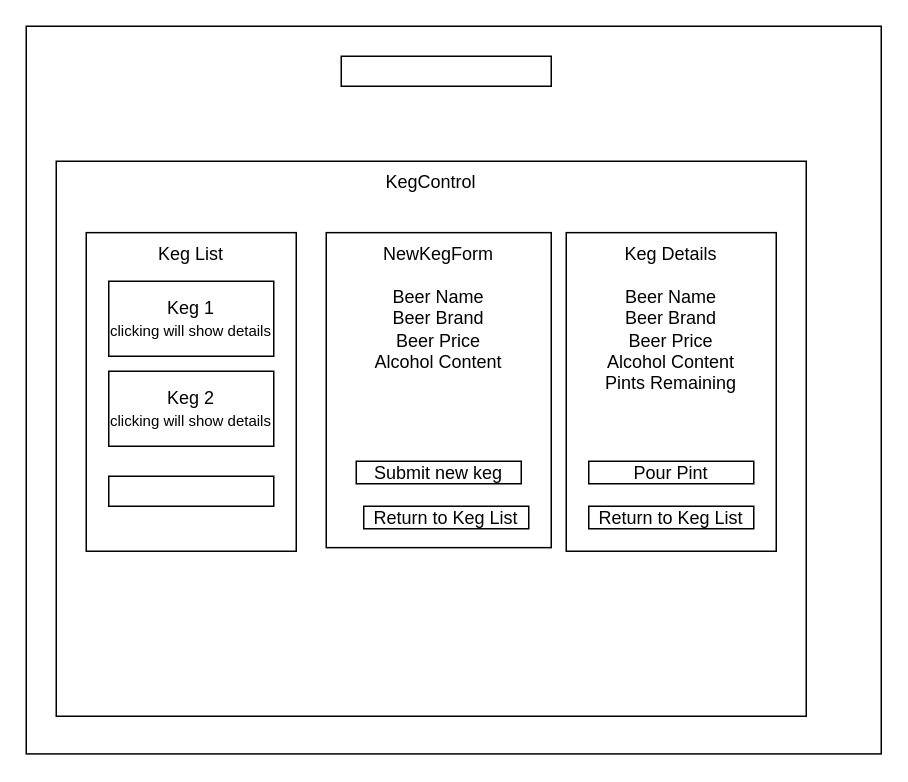
Some shapes in this 908 by 782 pixel diagram are drawn without their labels. The centre of each missing label's shape, as x and y in pixels:
"Add Keg" goes at (190,490).
"Header" goes at (445,70).
